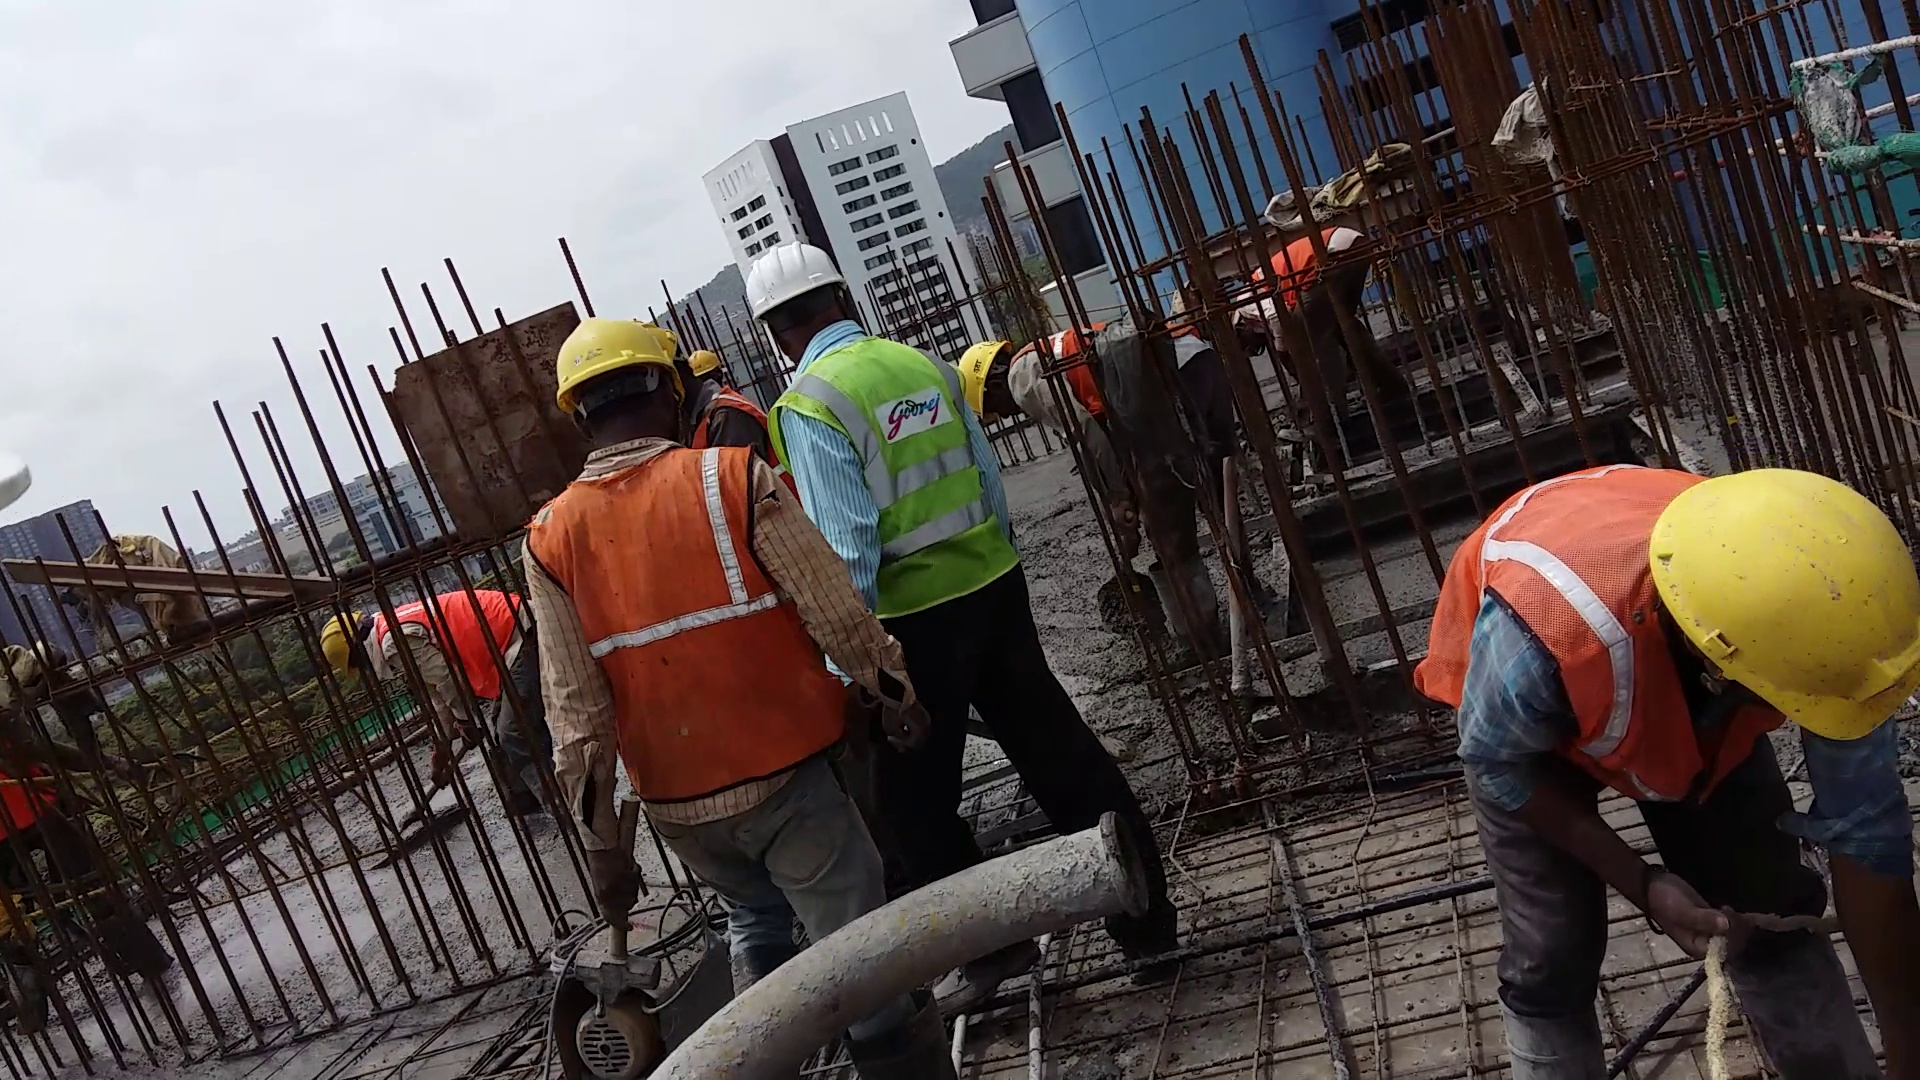SAFE: (1422, 456, 1920, 804), (514, 326, 752, 800), (749, 235, 1011, 626)
